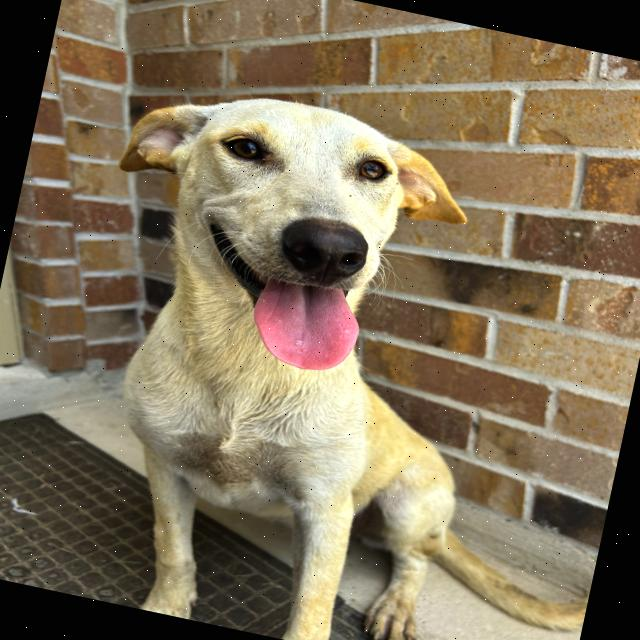labrador_retriever_dog: (69, 53, 494, 409)
